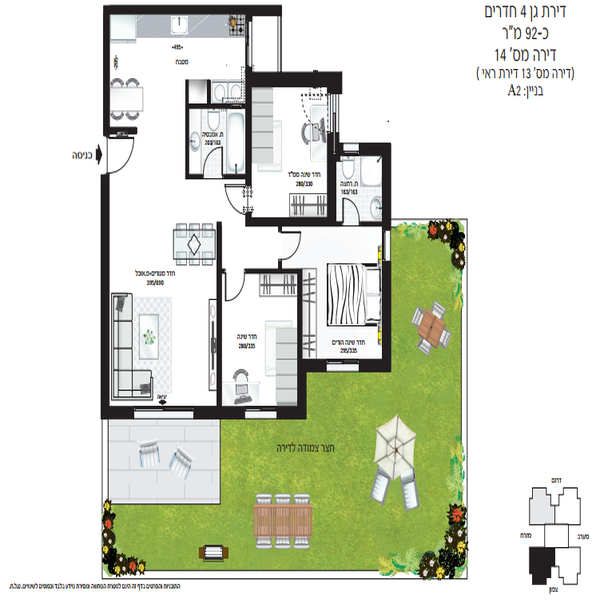door: (97, 127, 147, 175), (220, 267, 251, 310), (199, 142, 230, 184), (279, 226, 304, 264), (343, 195, 367, 230)
room: (97, 174, 225, 424), (102, 2, 252, 185), (237, 67, 339, 223), (299, 219, 397, 379), (217, 264, 307, 420)
wall: (95, 176, 111, 421), (107, 4, 287, 21), (377, 256, 396, 374), (248, 71, 345, 94), (240, 67, 259, 180), (293, 261, 306, 421), (320, 130, 340, 228), (101, 3, 116, 132), (237, 212, 341, 229), (214, 220, 223, 404), (378, 138, 395, 226), (188, 402, 247, 424), (182, 77, 195, 175), (244, 264, 302, 283), (187, 97, 241, 112), (227, 171, 243, 181)
window: (136, 404, 197, 433), (239, 401, 279, 427), (325, 352, 364, 374), (376, 226, 398, 265)
